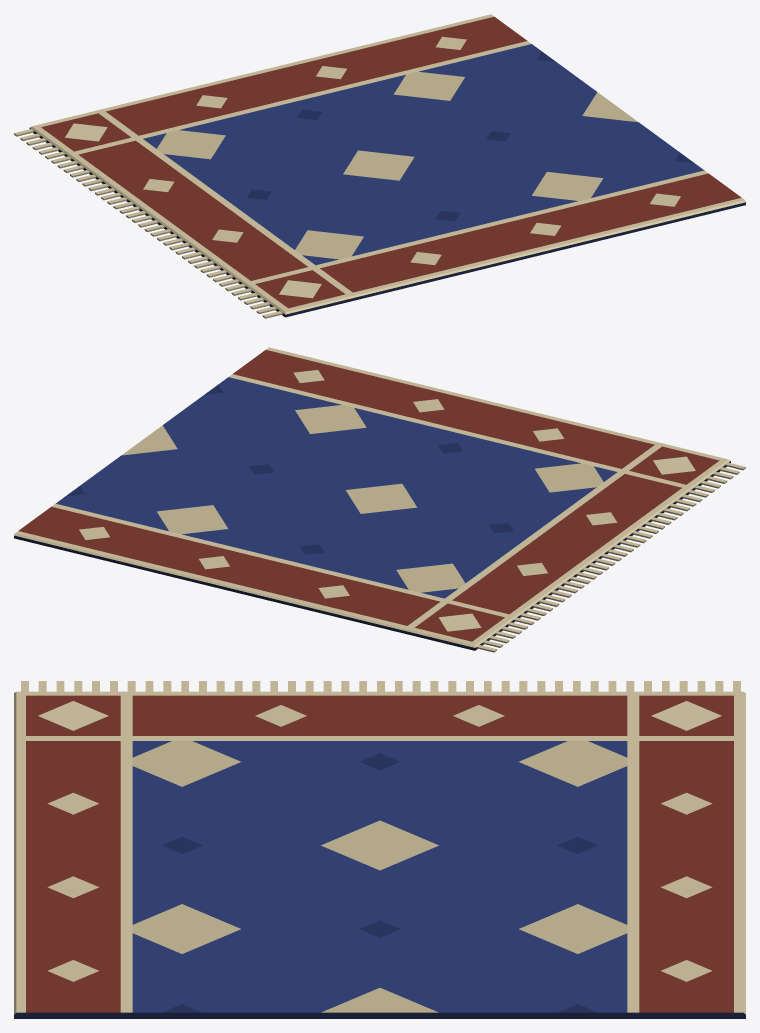
File: carpet_blue_runner_end_A.glb
3 views of the same model, one above another, from view 1: azimuth 30°, elevation 25°; view 2: azimuth 150°, elevation 25°; view 3: azimuth 270°, elevation 25° (orthographic). The views are drawn at different scales.
Visible parts, largest first — view 1: Item; view 2: Item; view 3: Item.
Part boxes in pixels (bbox=[...]): Item: bbox=[14, 14, 745, 318]; Item: bbox=[14, 347, 745, 652]; Item: bbox=[14, 681, 745, 1018].
Size of the model in its own units: 4 by 0.035 by 3.7.
Materials: 1 (1 with a texture image).
